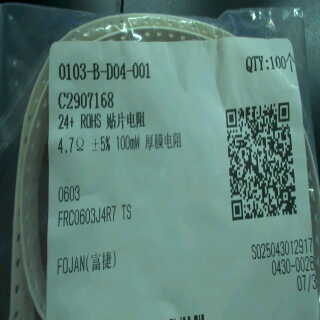4.7R: (56, 137, 90, 159)
